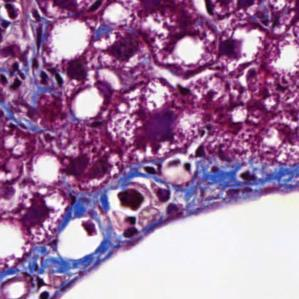inflammation: (105, 178, 177, 219), (0, 57, 68, 94), (165, 148, 211, 176)
